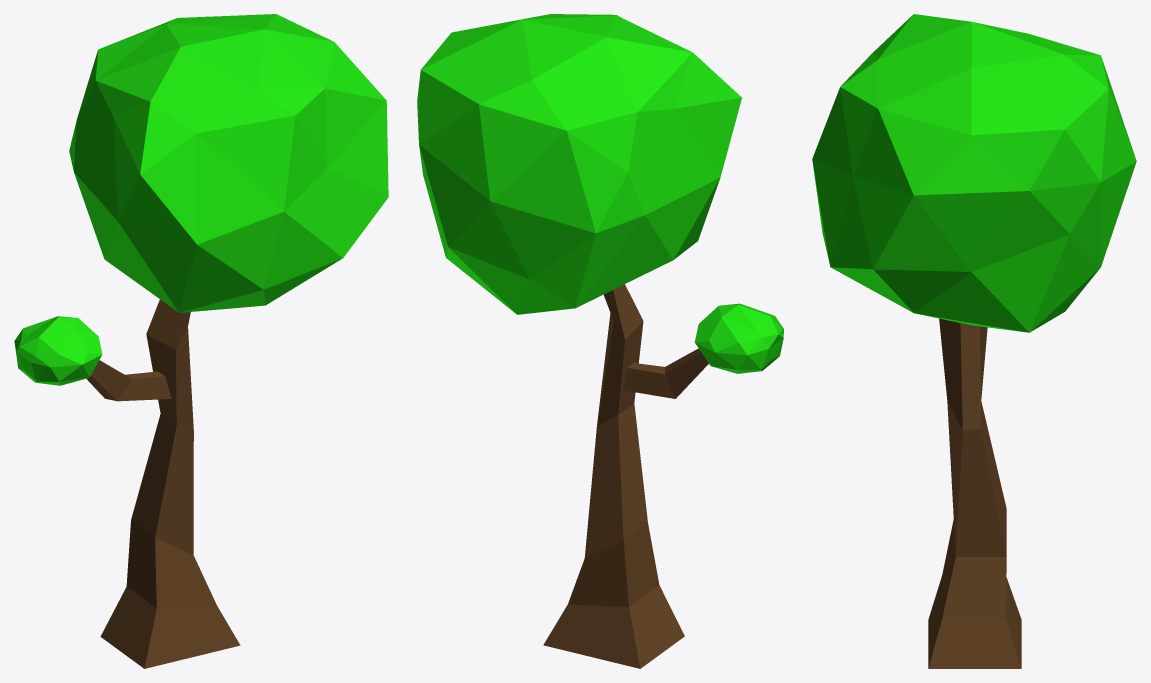
Rendered from LowPoly_Tree02.fbx.
The picture shows the model from 3 angles, left to right: view 1: azimuth 30°, elevation 25°; view 2: azimuth 150°, elevation 25°; view 3: azimuth 270°, elevation 25°; orthographic projection. The views are drawn at different scales.
Parts seen in each view (by area): view 1: Foglie, Tronco, Foglie Ramo, Ramo; view 2: Foglie, Tronco, Foglie Ramo, Ramo; view 3: Foglie, Tronco.
Boxes of the visible parts, left/top/right/bottom form: Foglie: left=69, top=14, right=388, bottom=312; Tronco: left=100, top=299, right=240, bottom=668; Foglie Ramo: left=14, top=316, right=102, bottom=385; Ramo: left=86, top=360, right=171, bottom=401; Foglie: left=417, top=14, right=741, bottom=314; Tronco: left=543, top=284, right=684, bottom=668; Foglie Ramo: left=694, top=303, right=783, bottom=373; Ramo: left=622, top=348, right=708, bottom=398; Foglie: left=812, top=14, right=1136, bottom=332; Tronco: left=928, top=318, right=1021, bottom=668.
Size of the model in its own units: 7.03 by 11.58 by 5.43.
